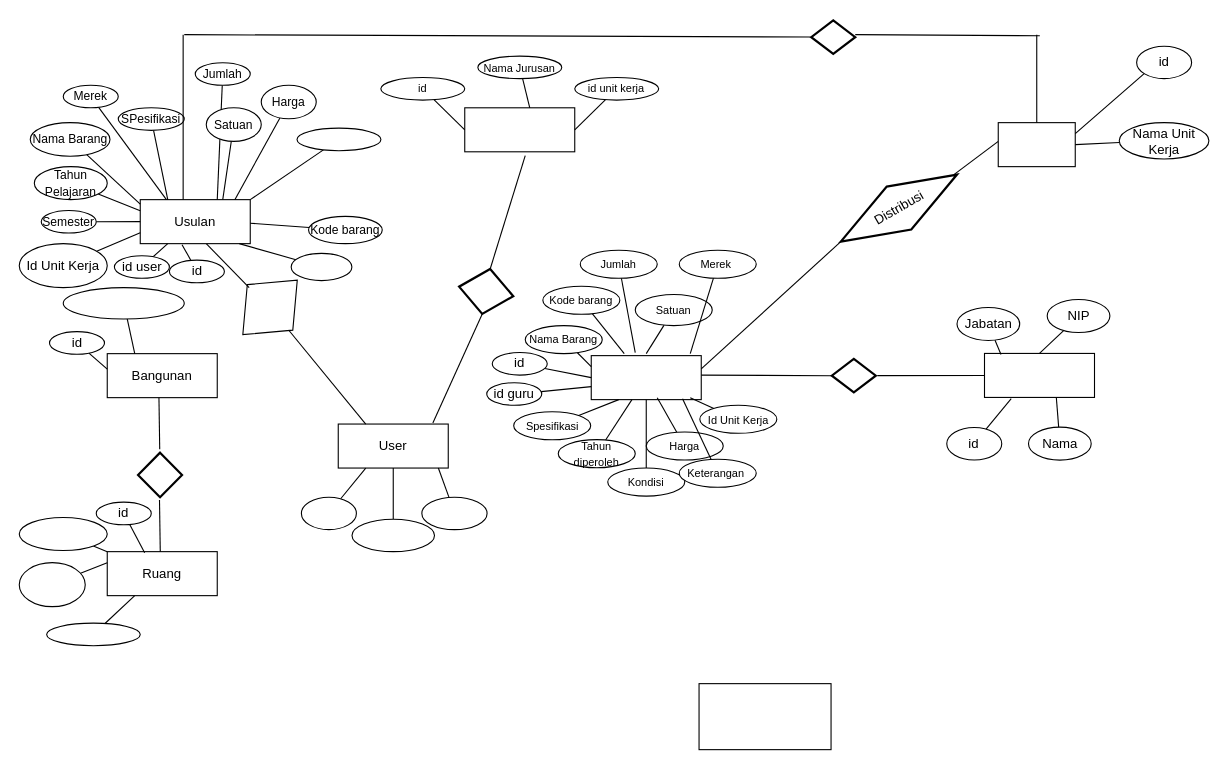
The diagram is 1229 pixels wide and 769 high, and some of its shapes have lost their labels. Each missing label, with the centre of its shape:
"Barang" goes at (645,377).
"Disetujui" goes at (321,266).
"Guru" goes at (1038,374).
"id bangunan" goes at (62,533).
"Jurusan" goes at (519,129).
"Kondisi ruang" goes at (93,634).
"Level" goes at (328,513).
"nama bangunan" goes at (123,303).
"Nama Ruang" goes at (51,584).
"Pass" goes at (454,513).
"Total Harga" goes at (338,139).
"Unit Kerja" goes at (1036,144).
"Username" goes at (393,535).
"Web Sarpras" goes at (764,716).
